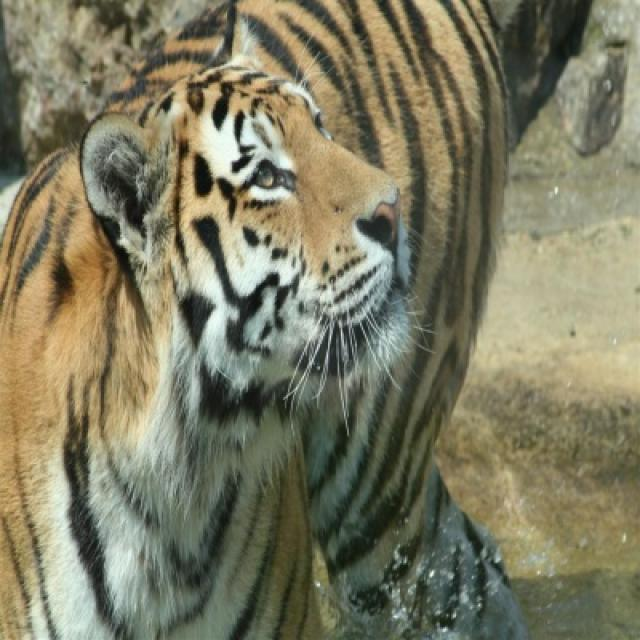Tiger: (6, 0, 532, 631)
